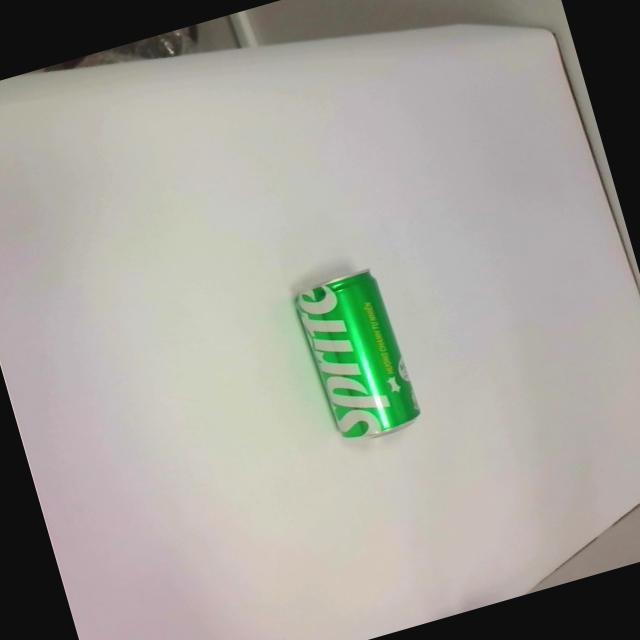debris: (288, 262, 426, 449)
